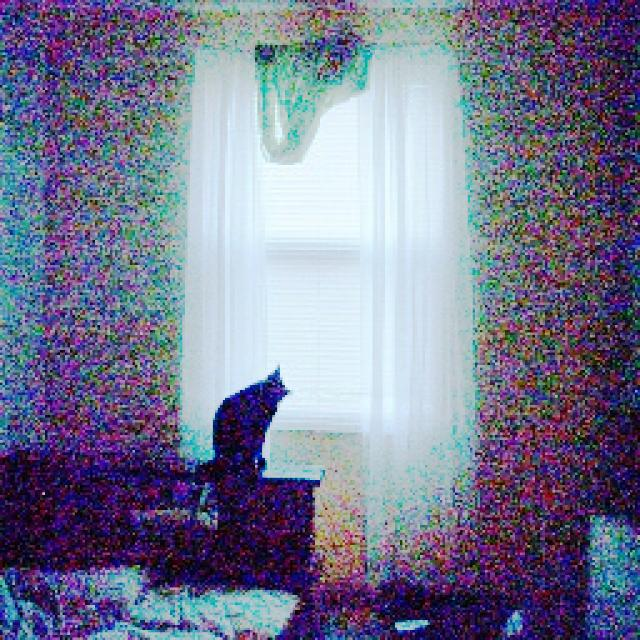cat: (200, 364, 295, 482)
